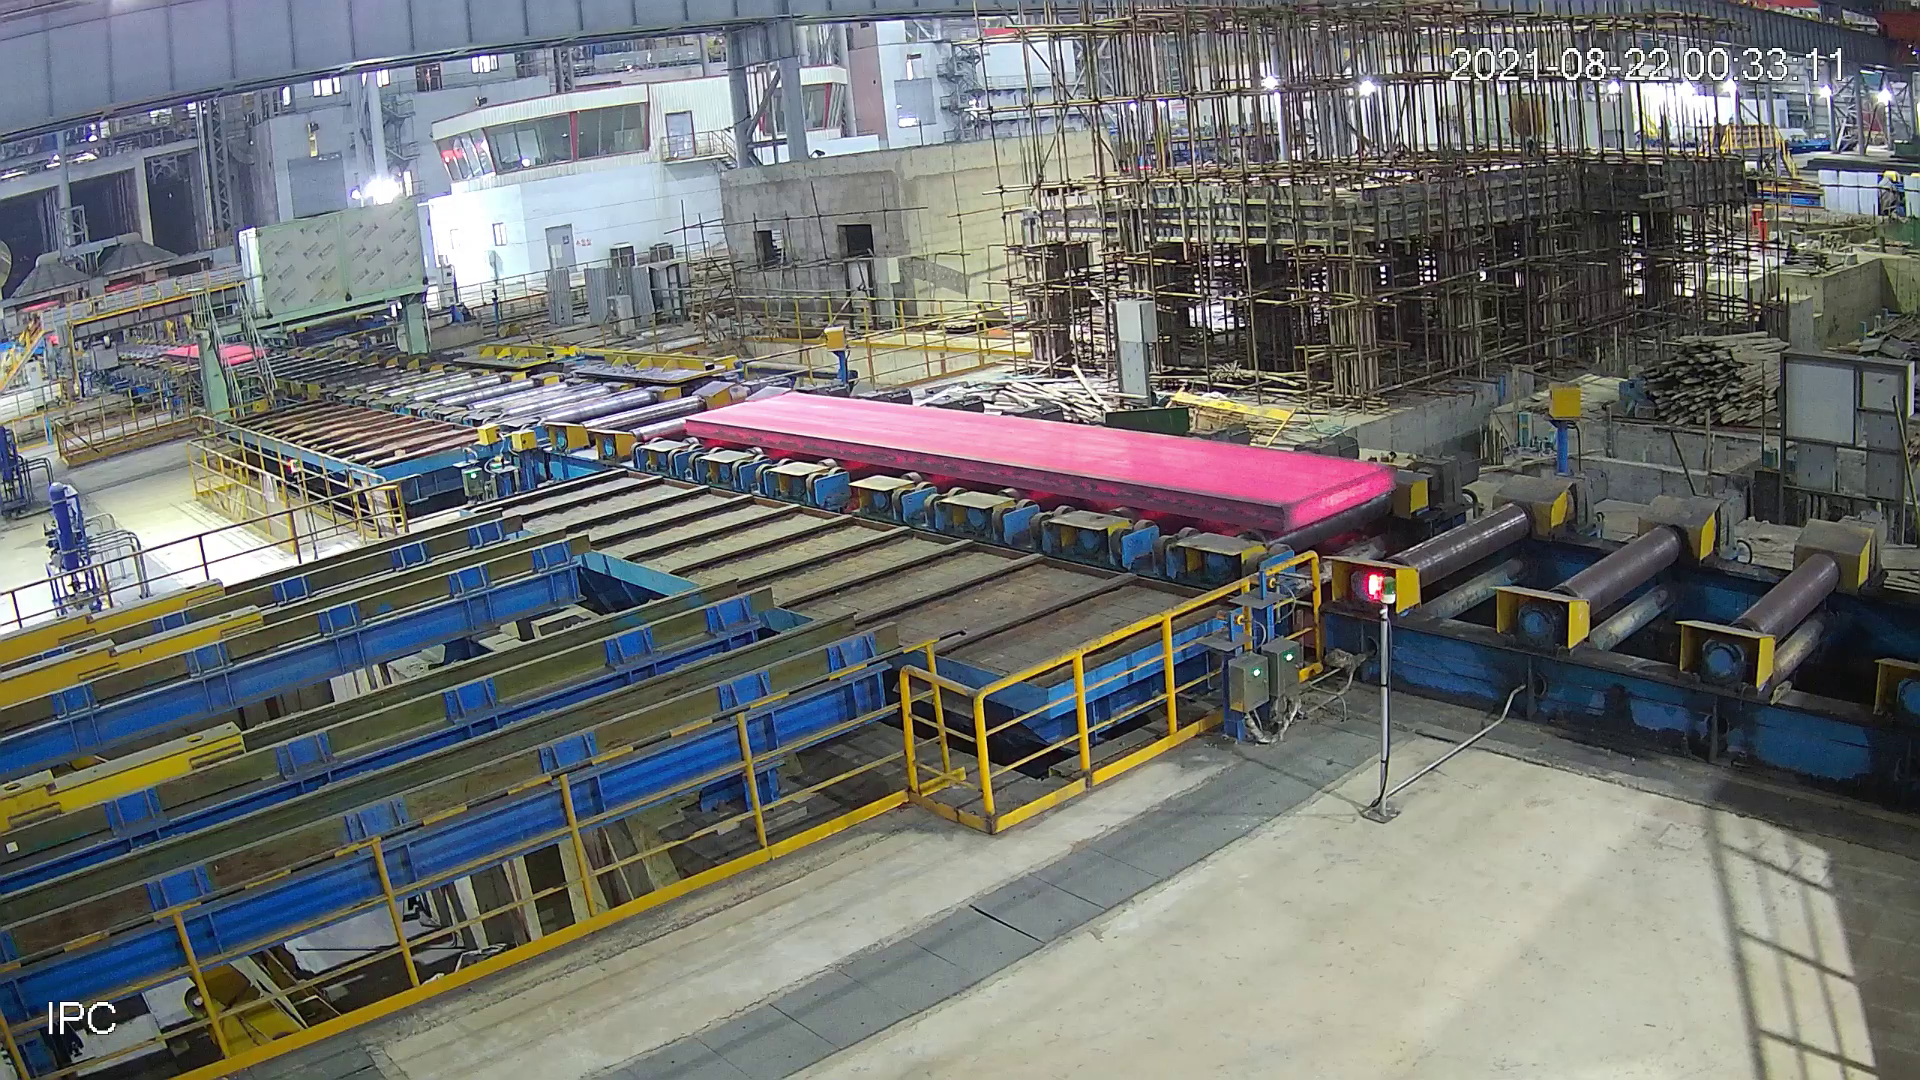slab: (684, 382, 1400, 530), (156, 332, 272, 372)
